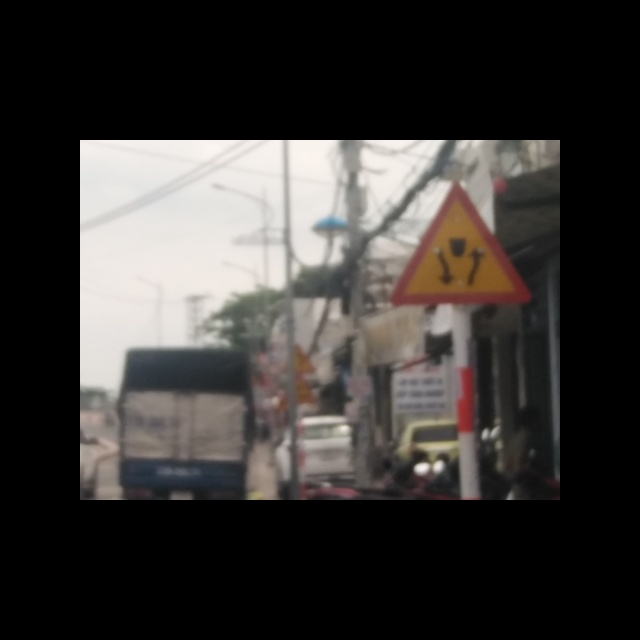Đường đôi: (389, 176, 533, 310)
